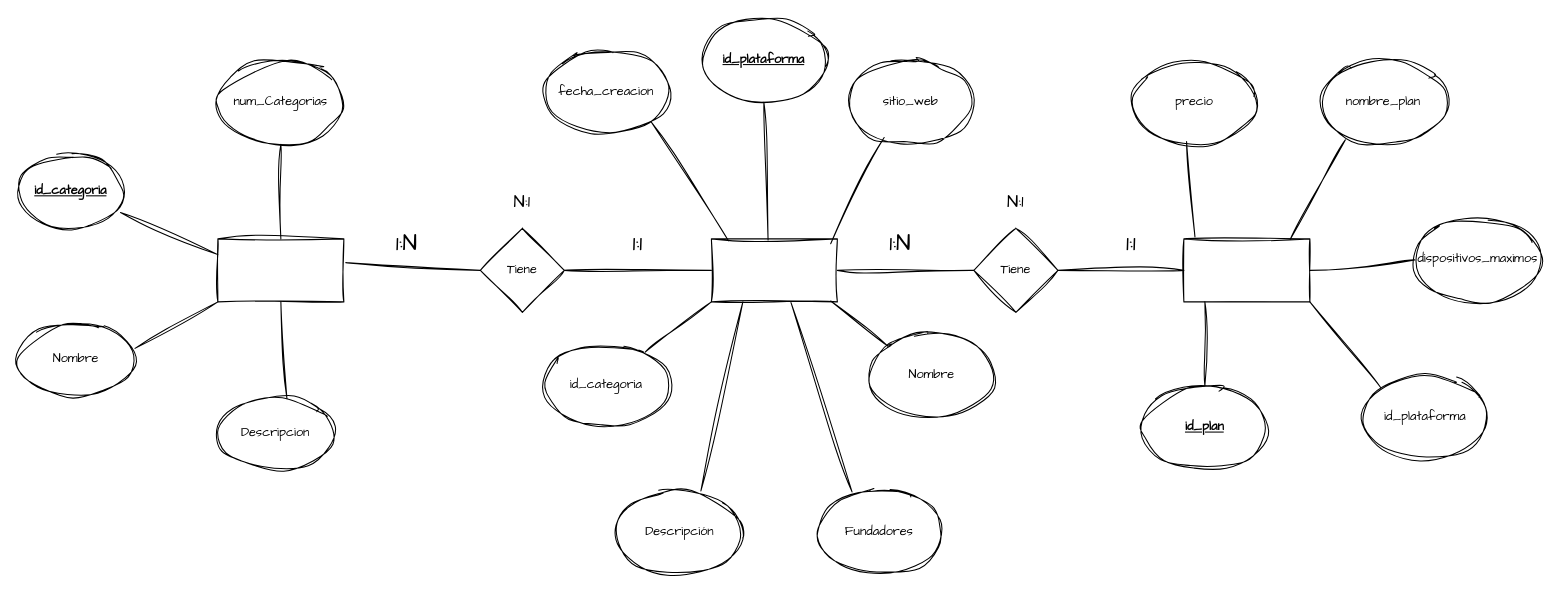
The diagram is 1559 pixels wide and 593 high, and some of its shapes have lost their labels. Here are the shapes that lost their labels. From the top down, the box of each, then its label:
(217, 238, 344, 302): Categoria
(710, 238, 837, 302): Plataforma
(1183, 238, 1310, 302): Plan
